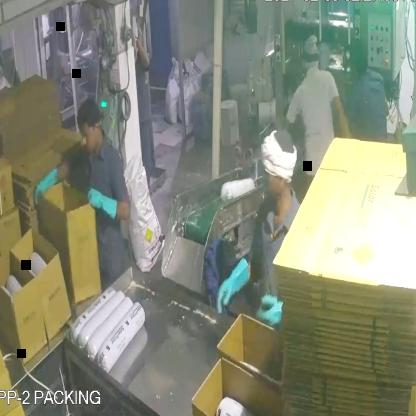glove: (215, 256, 251, 316), (83, 180, 125, 225), (28, 167, 64, 205), (258, 292, 287, 333)
